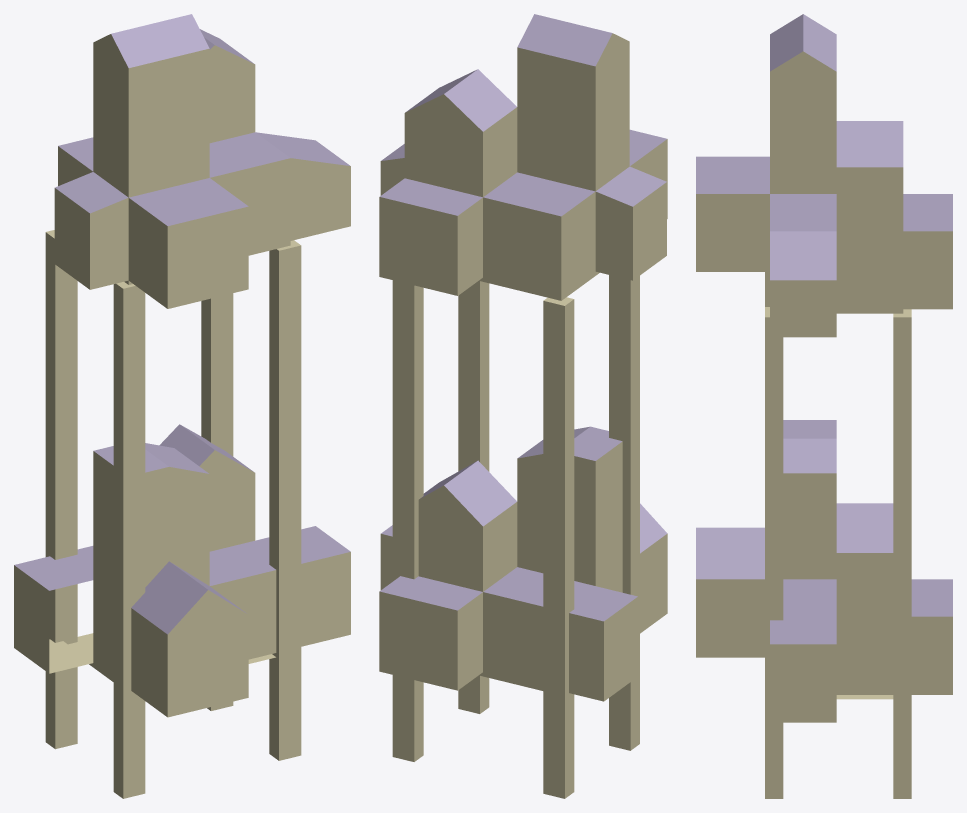
The model's file is allotment.glb.
The picture shows the model from 3 angles, left to right: view 1: azimuth 30°, elevation 25°; view 2: azimuth 150°, elevation 25°; view 3: azimuth 270°, elevation 25°; orthographic projection. The views are drawn at different scales.
Visible parts, largest first — view 1: Cylinder.001; view 2: Cylinder.001; view 3: Cylinder.001.
Part boxes in pixels (box(x1,y1,x2,y2)): Cylinder.001: box(14, 14, 350, 798); Cylinder.001: box(379, 14, 667, 798); Cylinder.001: box(696, 14, 952, 798).
Bounding box in the file's own units: 0.7515 × 2.02 × 0.6646.
